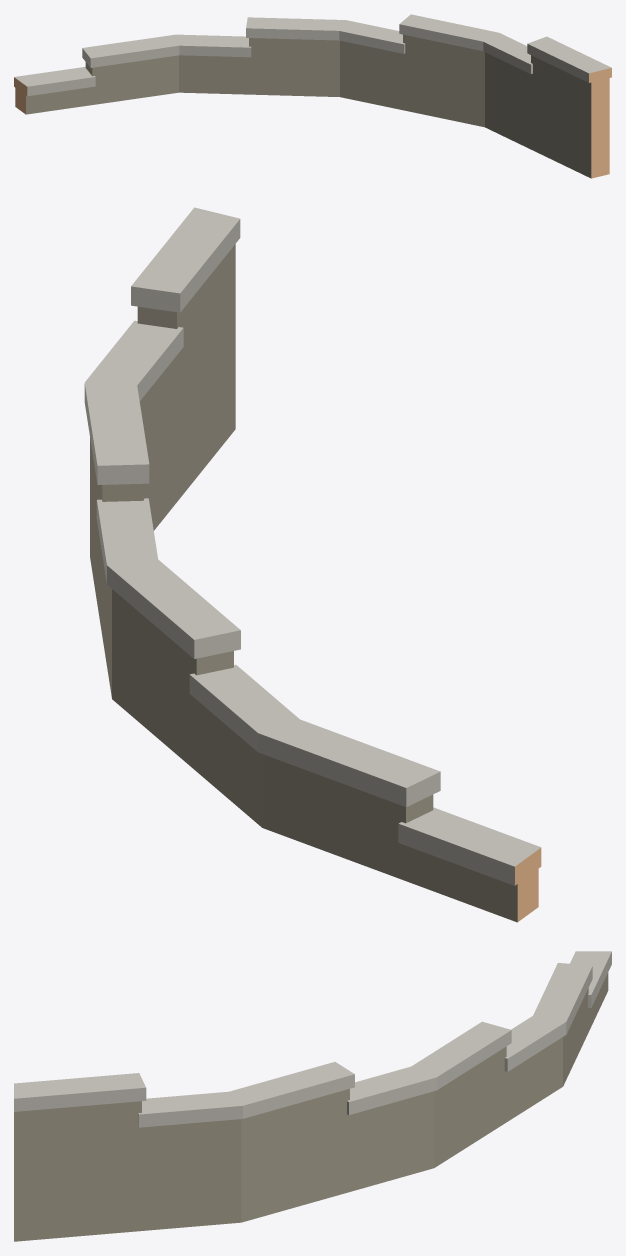
File: Tiered_Retaining_Wall_Stepped_Curve_Short_5x5.glb
3 views of the same model, one above another, from view 1: azimuth 30°, elevation 25°; view 2: azimuth 150°, elevation 25°; view 3: azimuth 270°, elevation 25° (orthographic). The views are drawn at different scales.
Visible parts, largest first — view 1: Tiered_Retaining_Wall_Stepped_Curve_Short_5x5; view 2: Tiered_Retaining_Wall_Stepped_Curve_Short_5x5; view 3: Tiered_Retaining_Wall_Stepped_Curve_Short_5x5.
Boxes of the visible parts, x1,y1,x2,y2 form: Tiered_Retaining_Wall_Stepped_Curve_Short_5x5: (14,14,611,178); Tiered_Retaining_Wall_Stepped_Curve_Short_5x5: (84,207,541,922); Tiered_Retaining_Wall_Stepped_Curve_Short_5x5: (14,951,611,1241).
Size of the model in its own units: 516 by 138 by 516.
